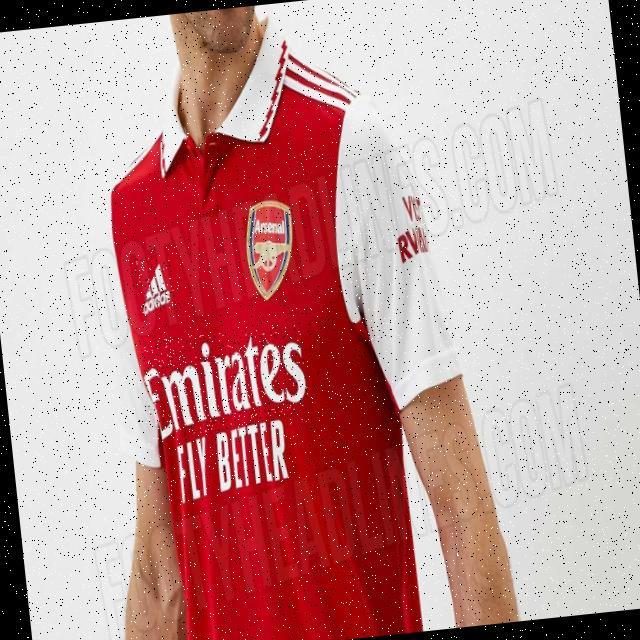Adidas: (134, 254, 176, 315)
Emirates: (140, 325, 311, 440)
